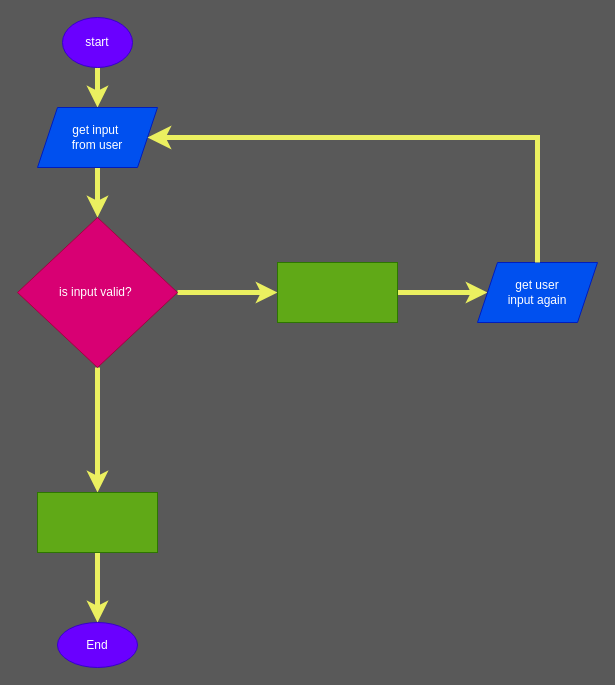
The diagram is 615 pixels wide and 685 high, and some of its shapes have lost their labels. The shapes that lost their labels are listed below. From the top down, each one's centre as x and y in pixels, then its label:
At point (337, 292): "display error message".
At point (97, 522): "do action".
